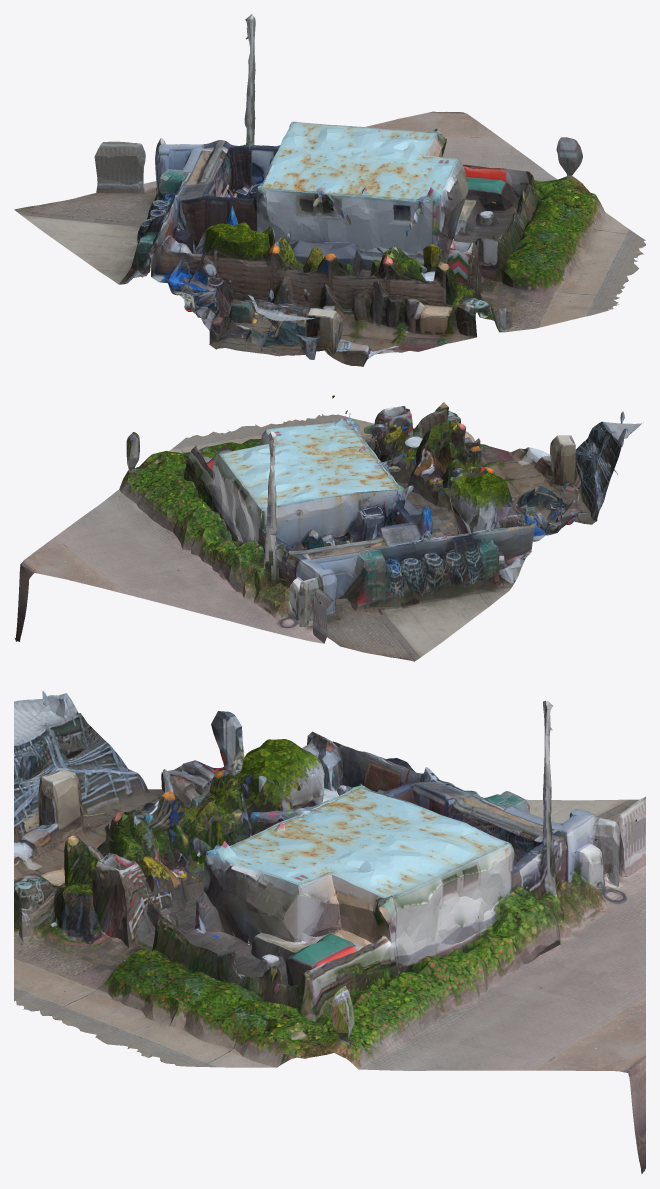
3 views of the same model, one above another, from view 1: azimuth 30°, elevation 25°; view 2: azimuth 150°, elevation 25°; view 3: azimuth 270°, elevation 25° (orthographic). The views are drawn at different scales.
Bounding box in the file's own units: 16.71 × 9.54 × 16.71.
Materials: 4 (4 with a texture image).
